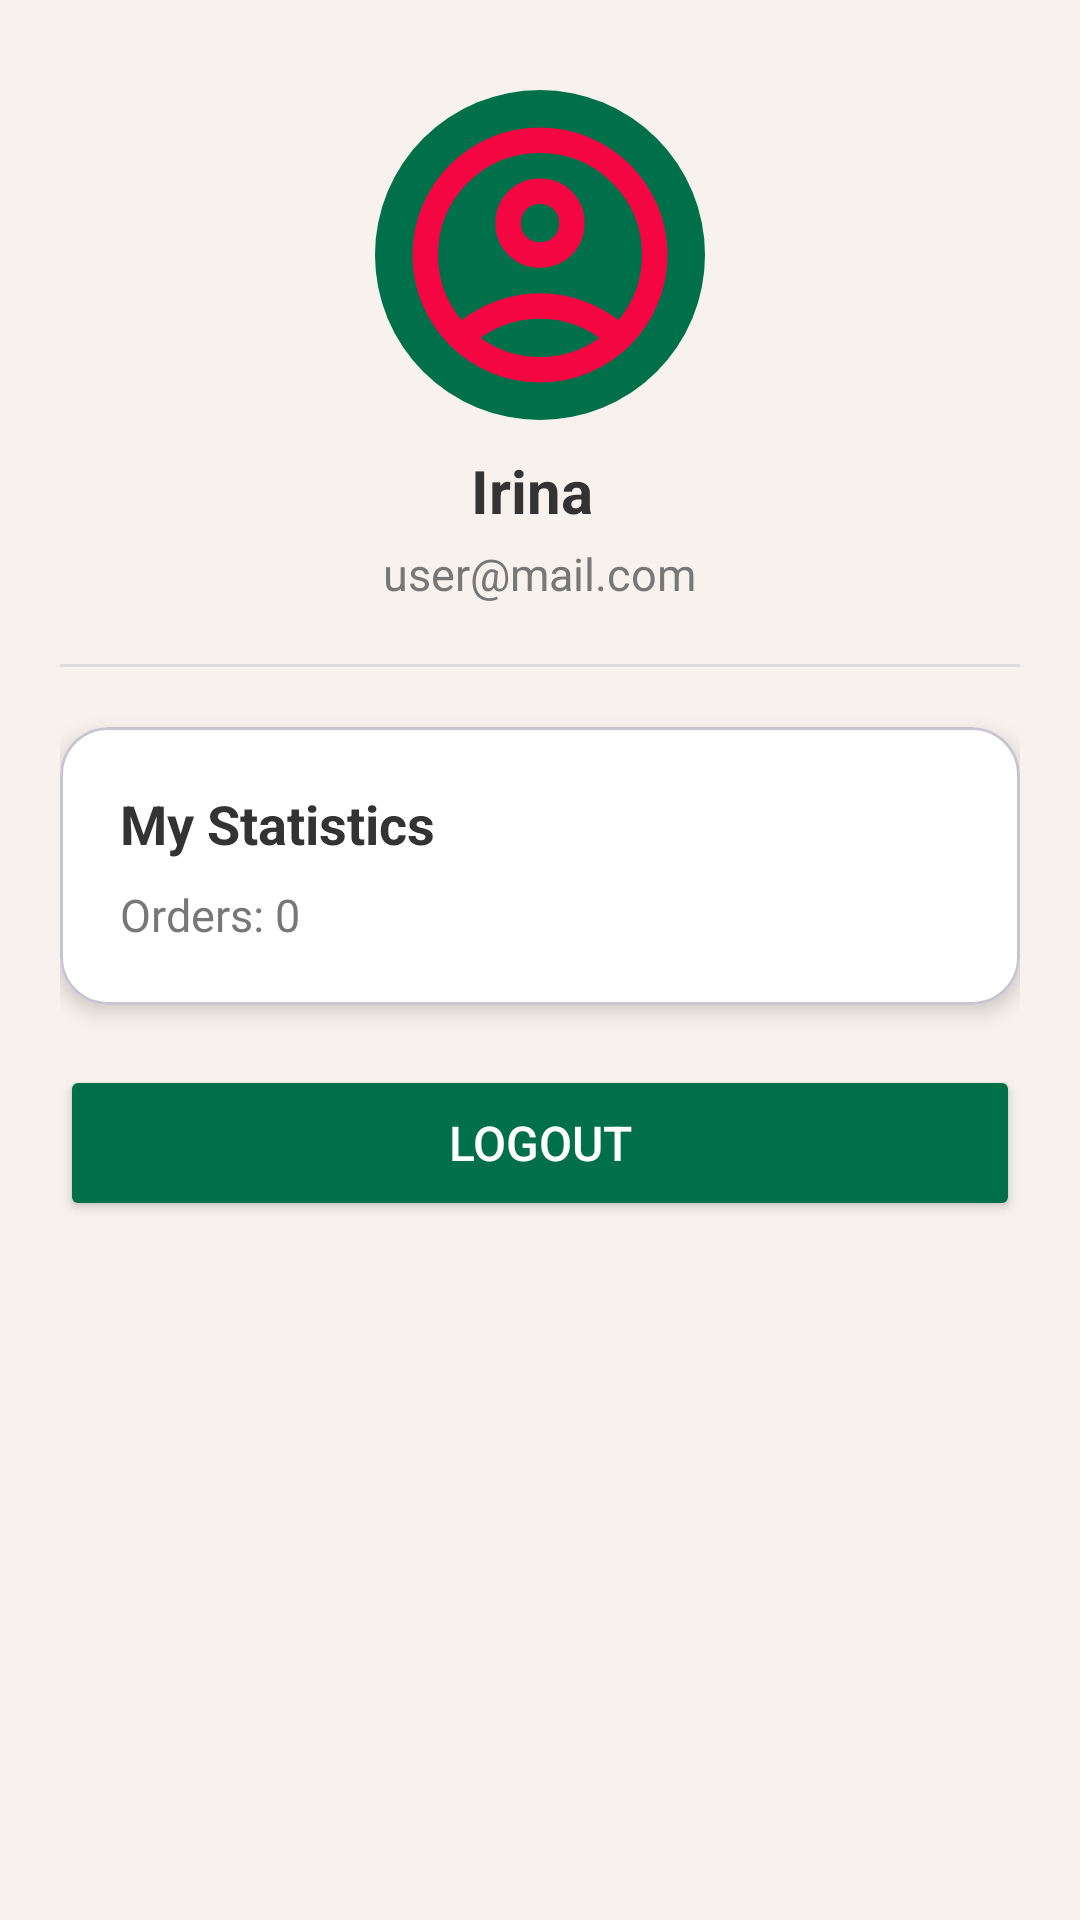

Icons on this 1080w x 1920h Android screen, each with its box as (x1, y1, x2, y2):
profile: (375, 90, 705, 420)
